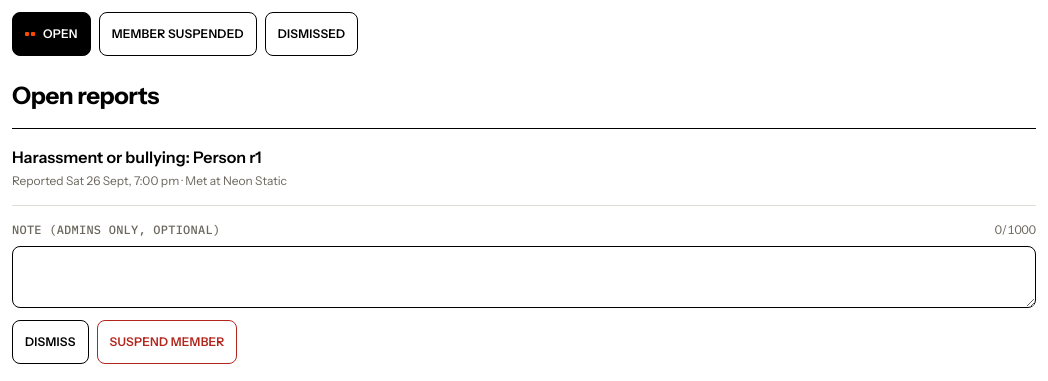
Test case: Admin: member reports › 409 (someone else resolved it): the report leaves the queue and that's announced
The image size is (1048, 381).
Check: the heading "Harassment or bullying: Person r1" is shown, box [12, 147, 262, 167]
Step 1. Click the button "Dismiss" → (50, 342), box [12, 320, 88, 364]
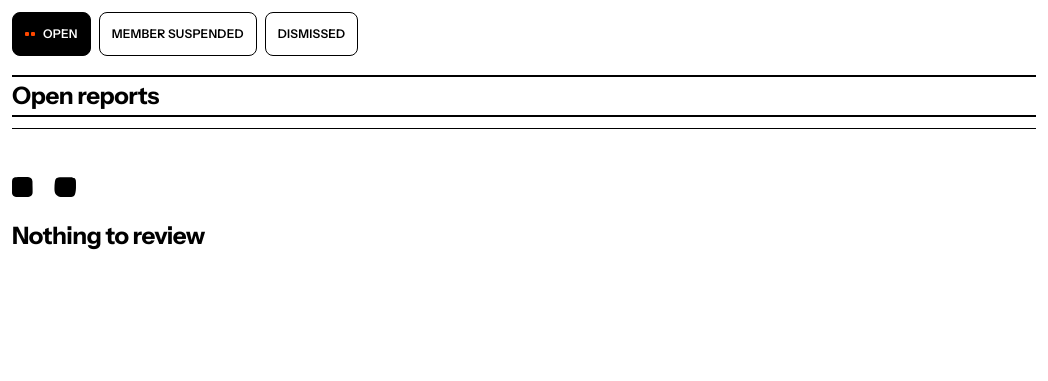
Check: the text "Nothing to review" is shown, box [12, 221, 205, 250]
